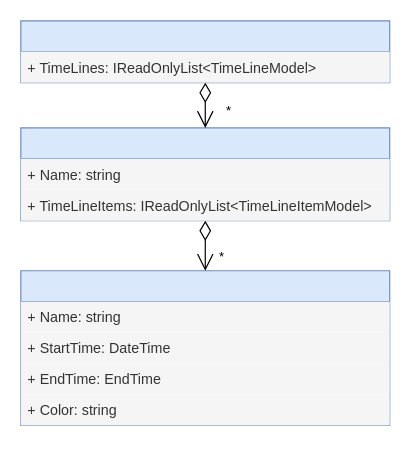
Image size: 411x450. Some labels were removed from this diagram. Here are the shapes that lost their labels. From the top down, the box of each, then its label:
(20, 20, 390, 83): TimeLinesModel
(20, 127, 390, 221): TimeLineModel
(20, 270, 390, 425): TimeLineItemModel
